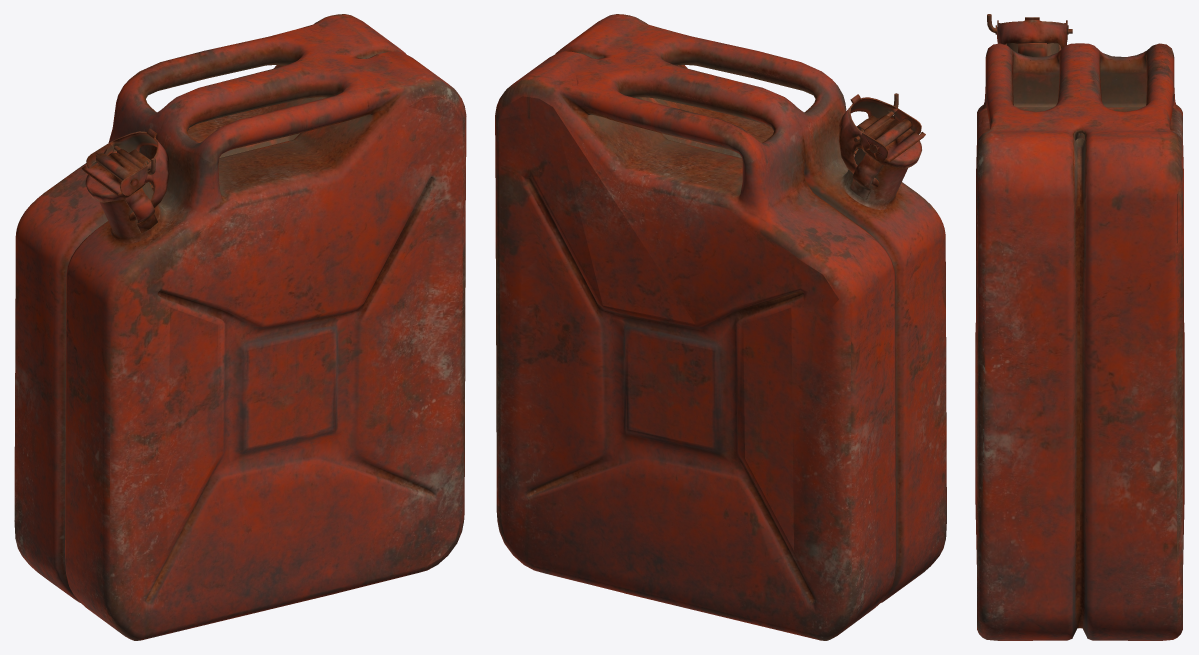
The model's file is galao.glb.
3 views of the same model, side by side, from view 1: azimuth 30°, elevation 25°; view 2: azimuth 150°, elevation 25°; view 3: azimuth 270°, elevation 25° (orthographic). The views are drawn at different scales.
Visible parts, largest first — view 1: galao; view 2: galao; view 3: galao.
Boxes of the visible parts, left/top/right/bottom form: galao: left=14, top=14, right=466, bottom=640; galao: left=495, top=14, right=946, bottom=640; galao: left=975, top=14, right=1184, bottom=640.
Bounding box in the file's own units: 0.2803 × 0.3641 × 0.1375.
1 material, 1 textured.
